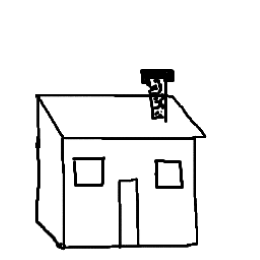bottom_placed_house: (3, 3, 260, 260)
chimney: (123, 64, 183, 130)
door: (113, 172, 146, 251)
open_window: (147, 153, 190, 196), (69, 152, 111, 192)
roof: (20, 92, 223, 148)
wall: (48, 125, 205, 254)
